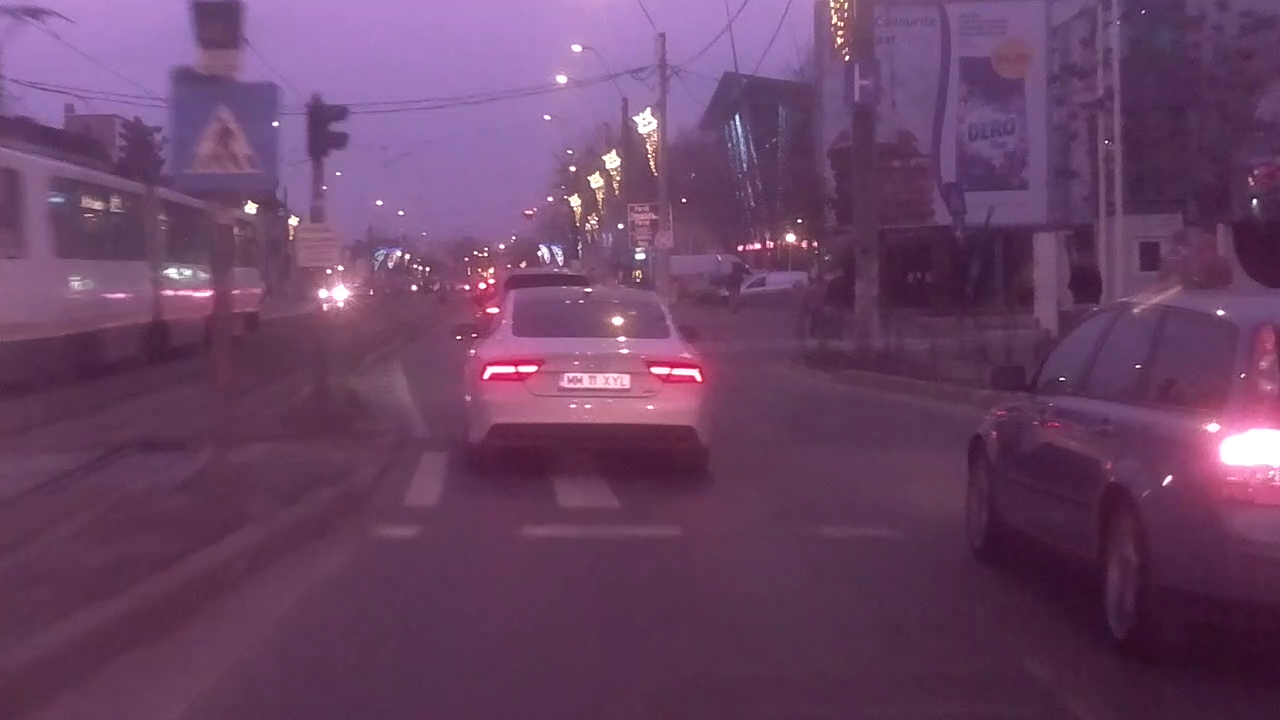license-plate: (553, 369, 636, 392)
